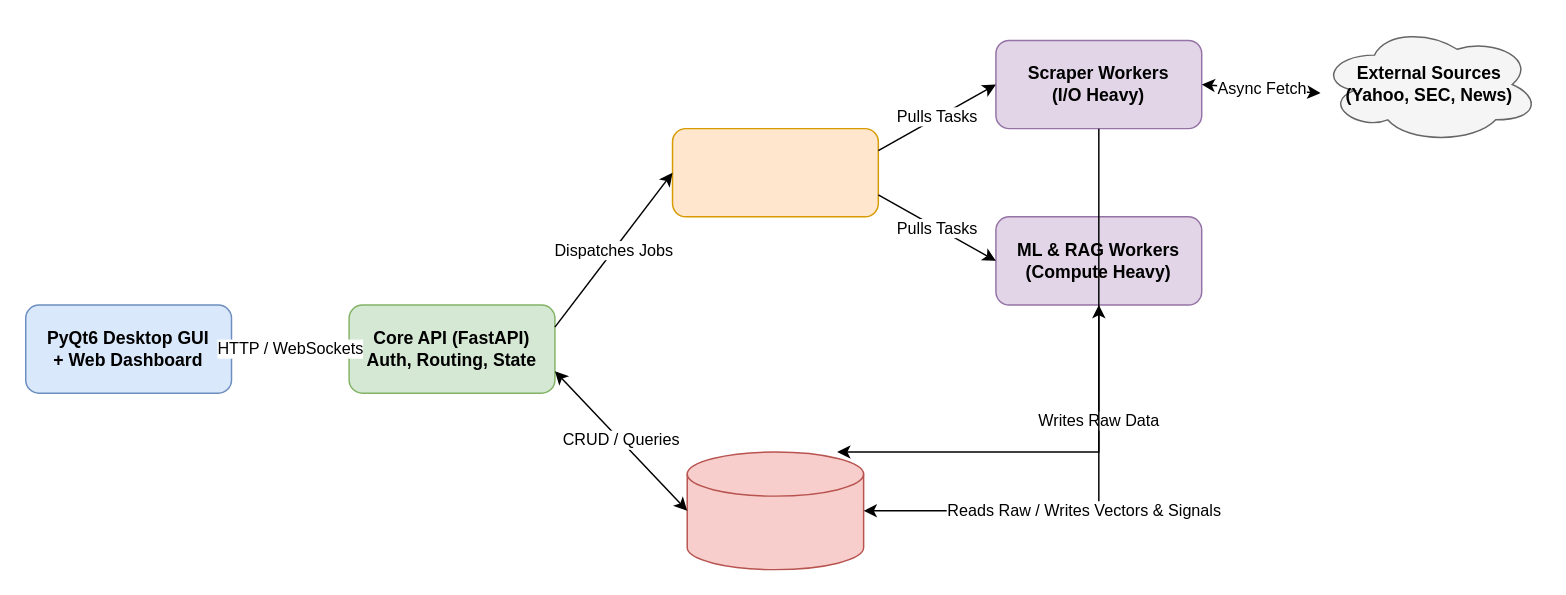
This 1566x595 diagram has some shape labels left out. The centre of each missing label's shape, as x and y in pixels:
"PostgreSQL DB (+ pgvector)" goes at (775,510).
"Redis + Celery (Message Queue)" goes at (774,172).
